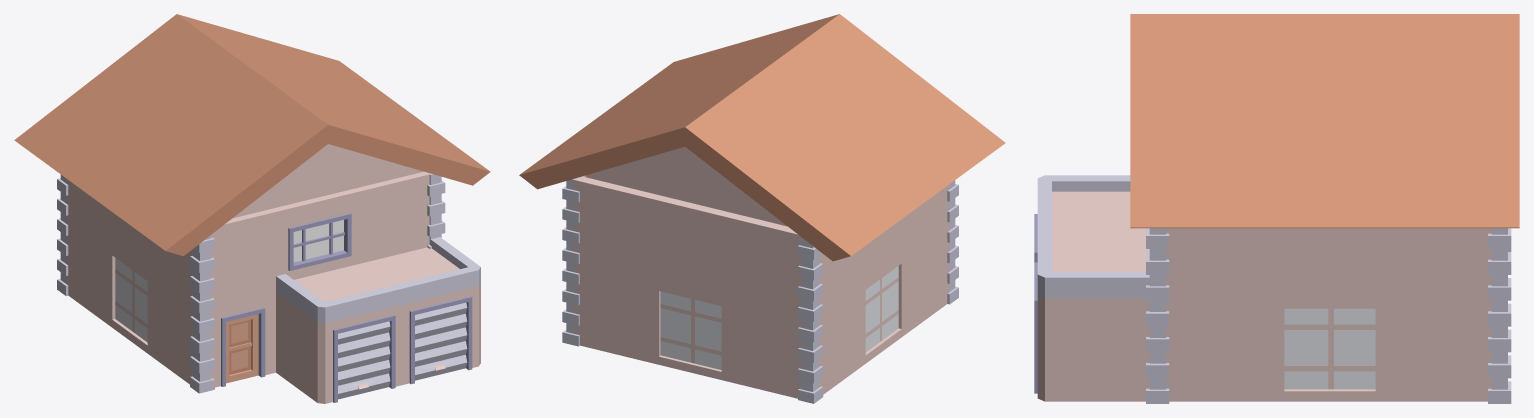
Rendered from house.glb.
3 views of the same model, side by side, from view 1: azimuth 30°, elevation 25°; view 2: azimuth 150°, elevation 25°; view 3: azimuth 270°, elevation 25° (orthographic). The views are drawn at different scales.
Visible parts, largest first — view 1: roof-col, doorway_wideGarageRoll-col, doorway_wideGarageRoll.001-col, window_decorativeLarge-col, wall.006-col, wall.018-col, doorway_doorSolid-col, roof_flatCorner-col, roof_flatCorner.001-col, wall.016-col, wall_window.001-col, wall.003-col (+8 smaller); view 2: roof-col, wall.019-col, wall.007-col, wall_window.002-col, wall.020-col, wall-col, wall.001-col, wall_window.001-col, wall.004-col, wall.003-col, quoin_detailed.005-col, quoin_detailed.004-col (+6 smaller); view 3: roof-col, wall_window-col, wall.017-col, wall.005-col, wall.002-col, wall.012-col, wall.013-col, wall.011-col, roof_flatCorner.001-col, roof_flatCorner-col, quoin_detailed.003-col, quoin_detailed.001-col (+3 smaller).
Boxes of the visible parts, x1,y1,x2,y2 form: roof-col: (14, 14, 490, 256); doorway_wideGarageRoll-col: (317, 305, 401, 403); doorway_wideGarageRoll.001-col: (402, 283, 480, 384); window_decorativeLarge-col: (274, 188, 358, 279); wall.006-col: (211, 207, 282, 306); wall.018-col: (354, 171, 431, 264); doorway_doorSolid-col: (211, 292, 275, 387); roof_flatCorner-col: (276, 263, 401, 323); roof_flatCorner.001-col: (363, 237, 480, 304); wall.016-col: (276, 292, 325, 403); wall_window.001-col: (107, 244, 151, 356); wall.003-col: (67, 215, 107, 323); roof-col: (519, 14, 1005, 261); wall.019-col: (650, 194, 736, 299); wall.007-col: (572, 176, 658, 280); wall_window.002-col: (651, 281, 729, 381); wall.020-col: (728, 214, 801, 316); wall-col: (572, 263, 650, 362); wall.001-col: (729, 300, 801, 398); wall_window.001-col: (861, 252, 906, 366); wall.004-col: (906, 222, 948, 333); wall.003-col: (819, 285, 860, 394); quoin_detailed.005-col: (798, 318, 823, 403); quoin_detailed.004-col: (798, 237, 823, 321); roof-col: (1130, 14, 1519, 228); wall_window-col: (1273, 298, 1386, 401); wall.017-col: (1037, 296, 1149, 401); wall.005-col: (1166, 298, 1272, 401); wall.002-col: (1387, 298, 1491, 401); wall.012-col: (1273, 228, 1386, 298); wall.013-col: (1166, 228, 1272, 298); wall.011-col: (1387, 228, 1491, 298); roof_flatCorner.001-col: (1037, 226, 1149, 298); roof_flatCorner-col: (1037, 175, 1145, 239); quoin_detailed.003-col: (1488, 300, 1511, 403); quoin_detailed.001-col: (1146, 300, 1169, 403).
Size of the model in its own units: 4.23 by 3.03 by 4.26.
